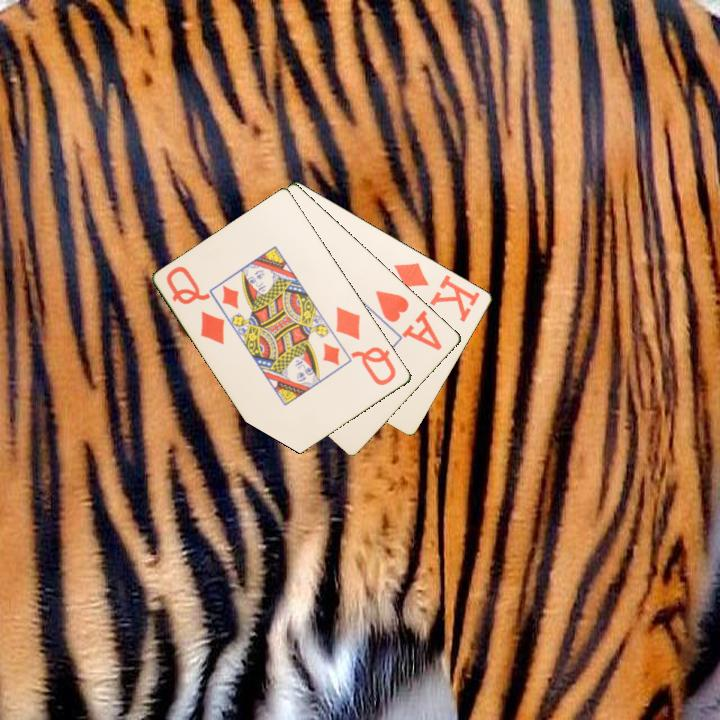Ah: (372, 286, 445, 353)
Kd: (391, 258, 483, 325)
Qd: (332, 303, 399, 389), (163, 262, 228, 348)
